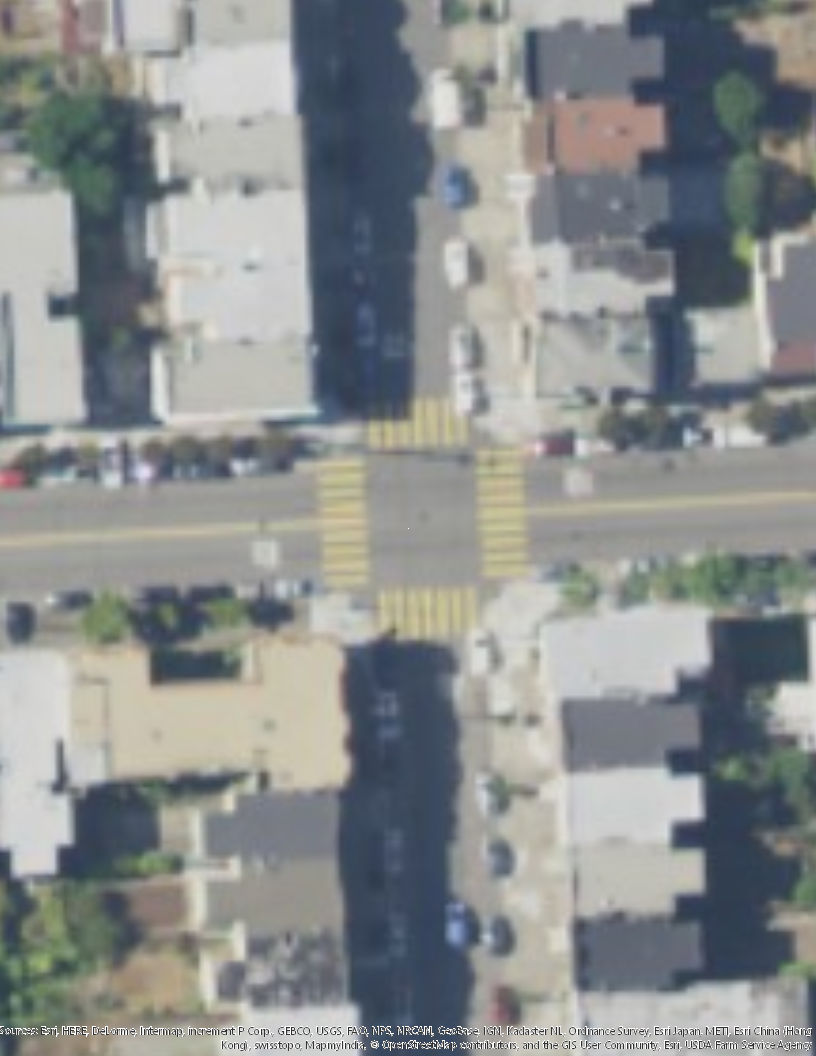zebracross: (315, 456, 370, 588), (475, 444, 529, 573), (366, 394, 471, 446), (379, 586, 477, 631)
